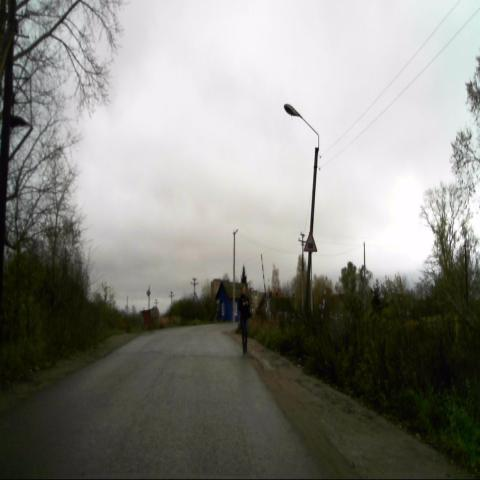1_1: (304, 228, 317, 253)
